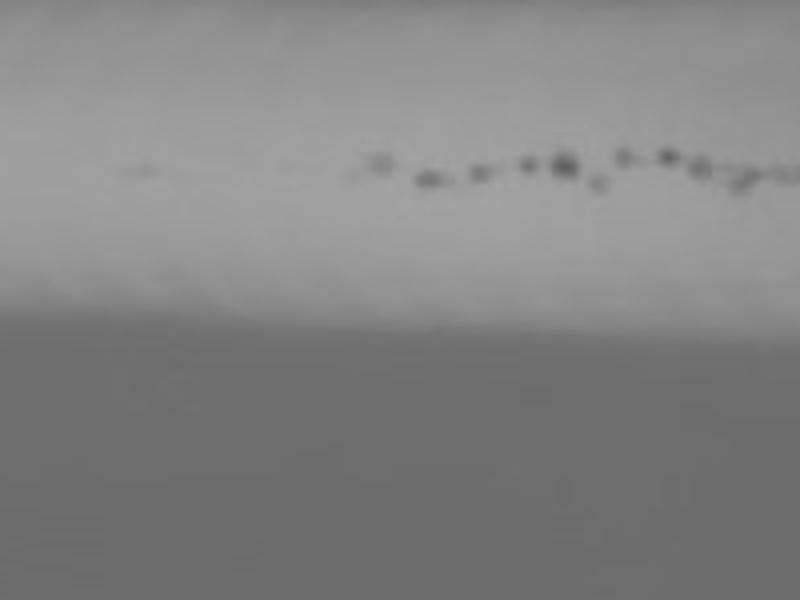defect: (730, 163, 767, 196), (409, 165, 456, 188), (367, 148, 398, 177), (127, 158, 166, 180), (551, 156, 581, 182), (465, 163, 494, 187), (690, 154, 710, 186), (513, 155, 539, 176), (616, 148, 643, 168), (589, 172, 614, 189), (660, 145, 680, 165)
